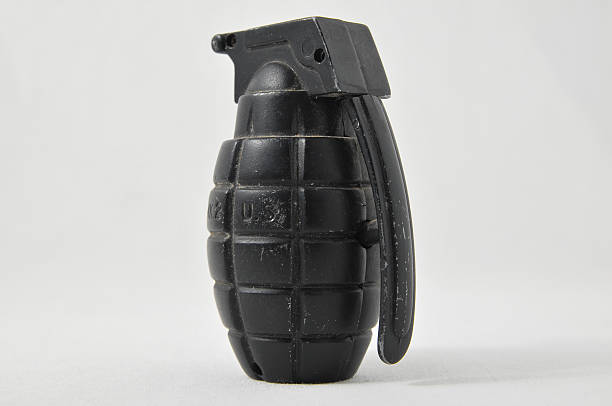e1: (210, 18, 413, 388)
